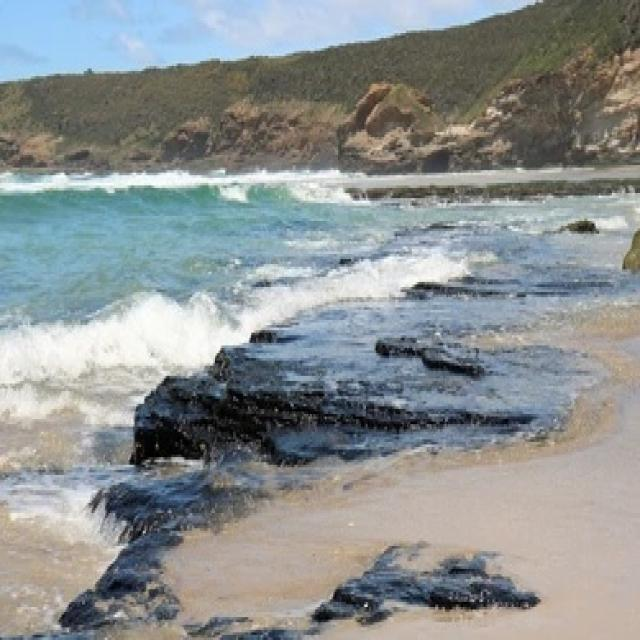Sedimentary: (115, 269, 574, 457), (330, 528, 550, 640), (95, 468, 250, 528)
